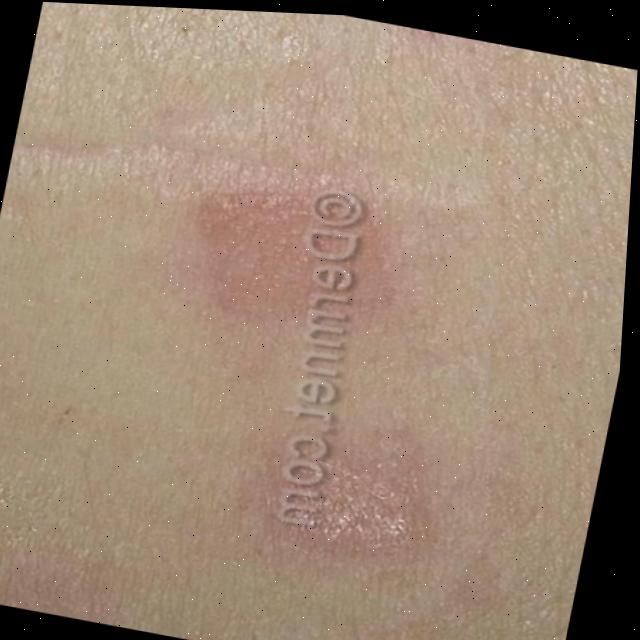Eczema: (173, 160, 421, 349), (233, 408, 454, 579)
